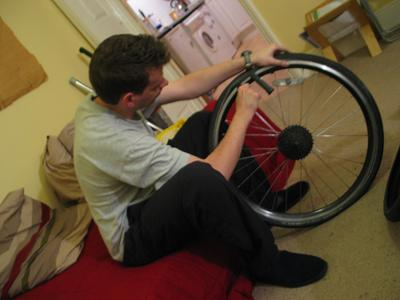person: (68, 30, 331, 290)
